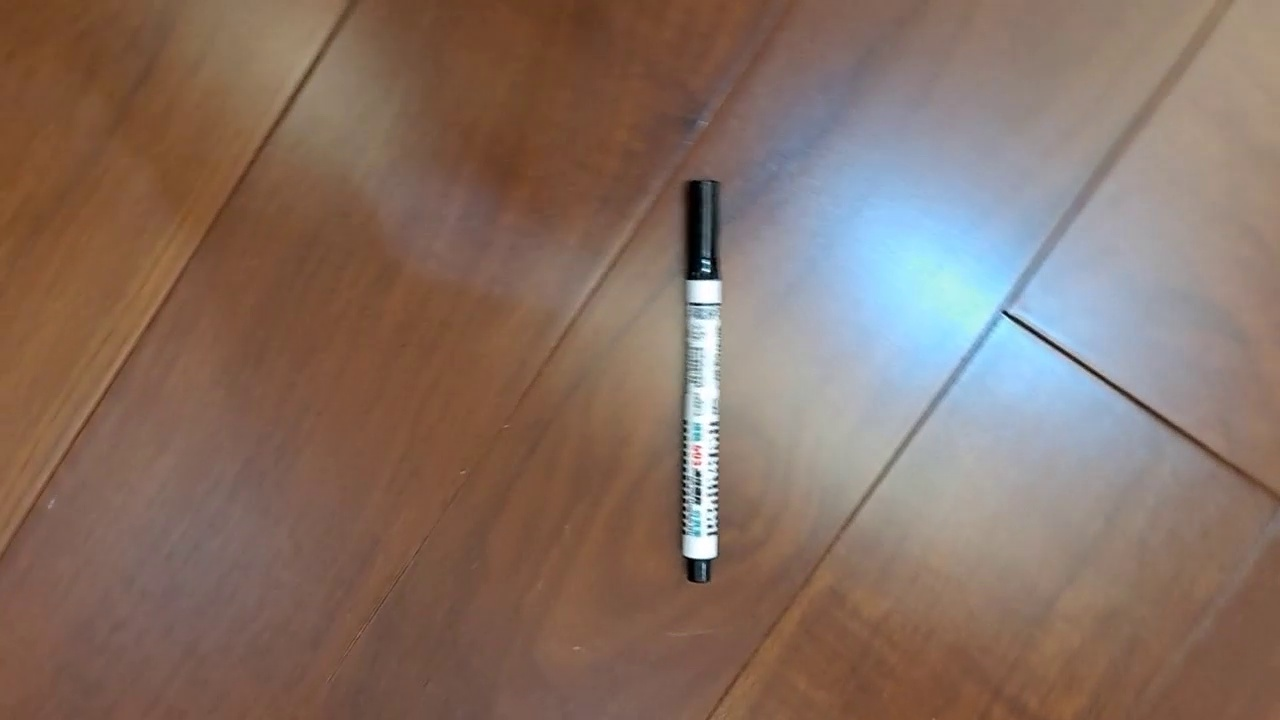pen: (679, 178, 723, 584)
